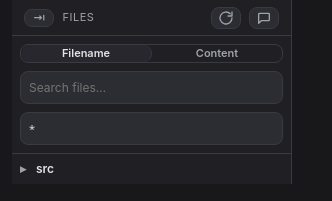
Test: FileTree.vue — 文件树节点右键复制 › 右键文件夹节点同样显示菜单
Right-click the button with class "dir-row".
right_click(23, 168)  # box [12,158,291,180]
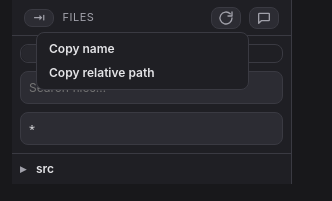
Result: the menu with class "tree-context-menu" is shown at [36,32,249,90]
Result: the menu item with test id "tree-context-copy-name" reads "Copy name" at [41,37,244,61]
Result: the menu item with test id "tree-context-copy-relative-path" reads "Copy relative path" at [41,61,244,85]
